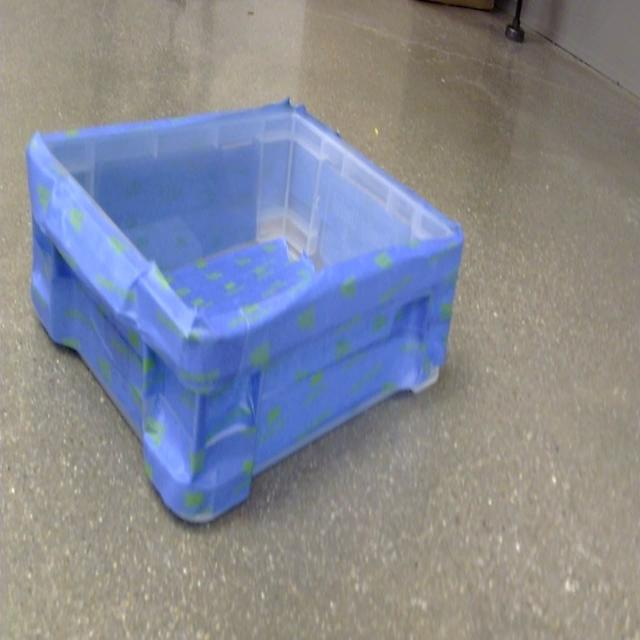bucket: (24, 100, 466, 528)
